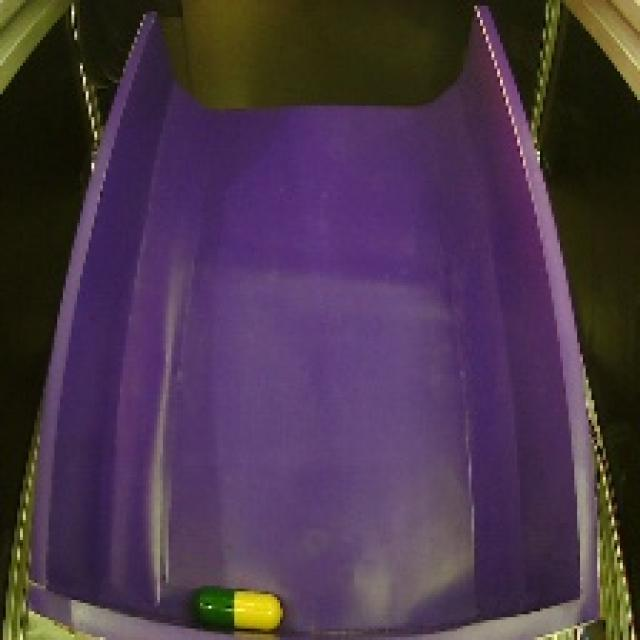small: (182, 578, 294, 638)
